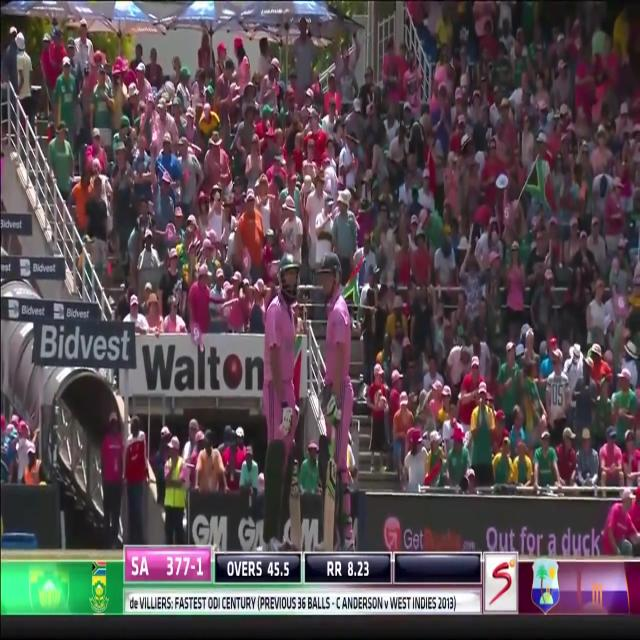Ball: (254, 254, 310, 553), (314, 255, 357, 552)
